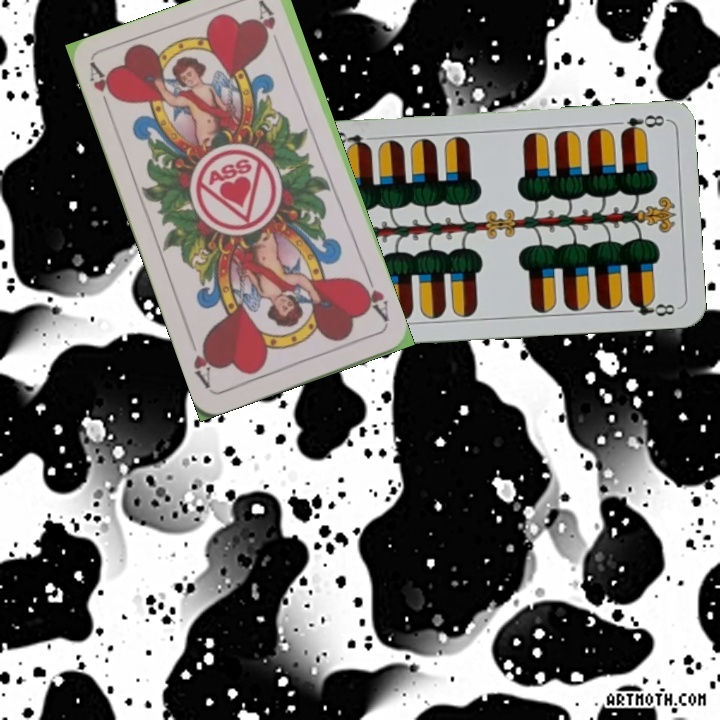E8: (616, 110, 669, 137)
HA: (354, 270, 392, 327), (85, 60, 121, 118)
